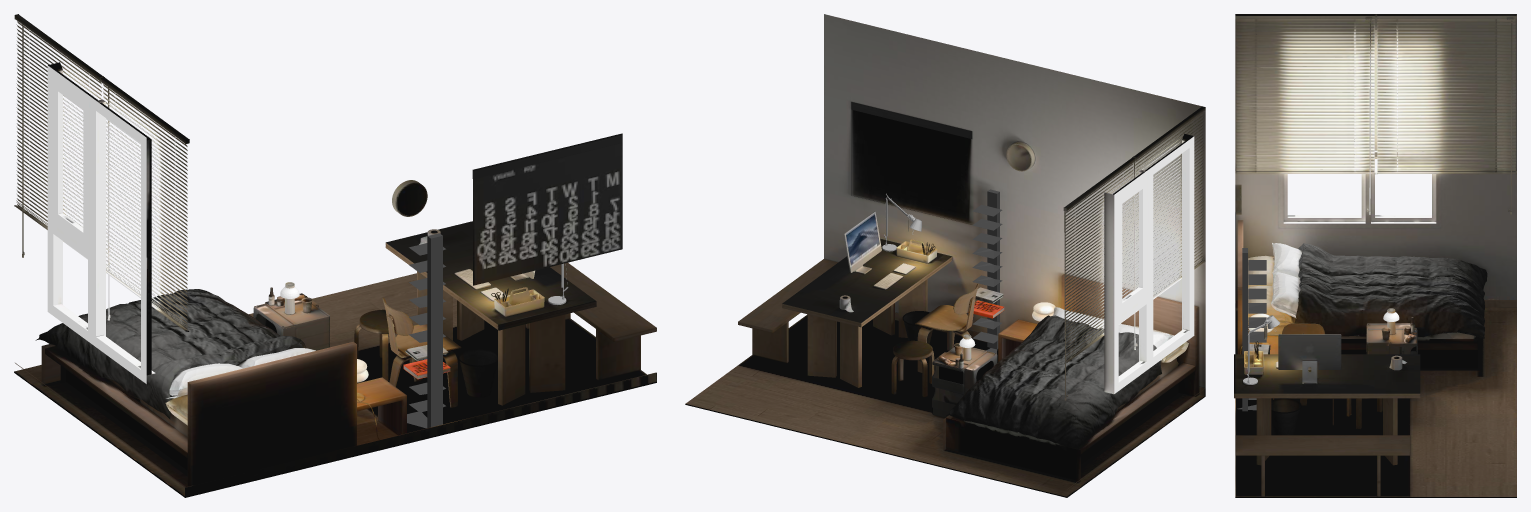
File: alt2.glb
3 renders of one model, left to right at view 1: azimuth 30°, elevation 25°; view 2: azimuth 150°, elevation 25°; view 3: azimuth 270°, elevation 25°, orthographic. The views are drawn at different scales.
Parts seen in each view (by area): view 1: origin; view 2: origin; view 3: origin.
Boxes of the visible parts, bbox=[...] form: origin: bbox=[14, 14, 656, 497]; origin: bbox=[685, 14, 1205, 497]; origin: bbox=[1234, 14, 1516, 497].
Size of the model in its own units: 3.95 by 2.79 by 2.43.
Materials: 5 (2 with a texture image).
